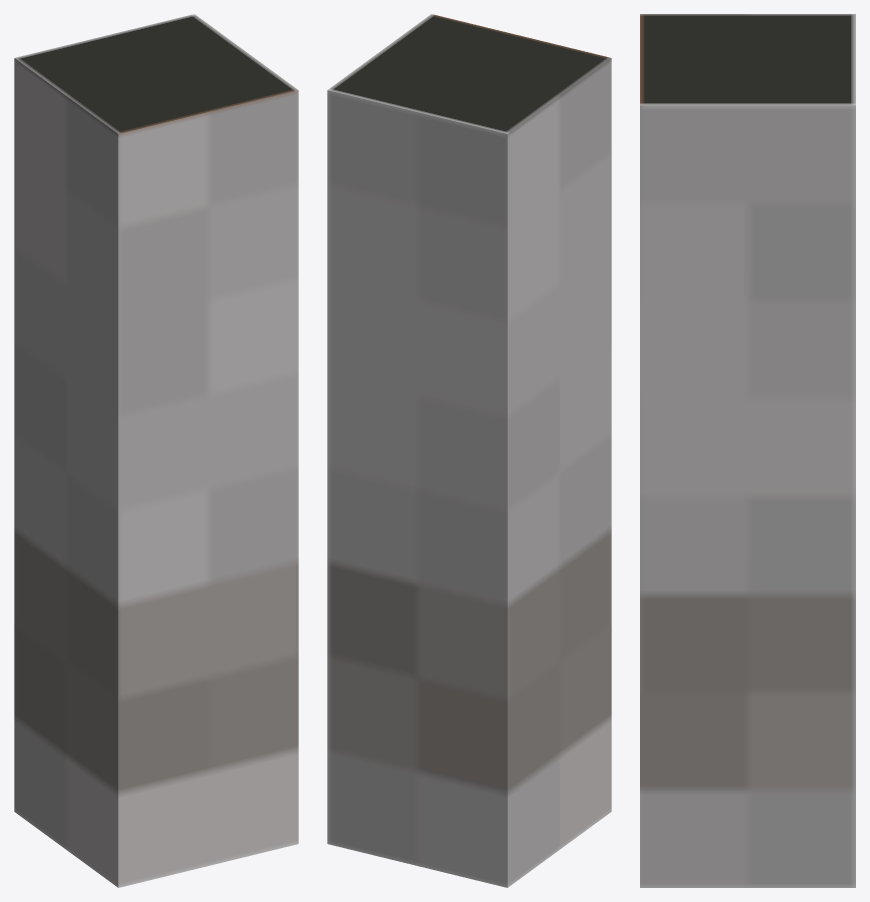
File: pbF_leftleg.obj
3 views of the same model, side by side, from view 1: azimuth 30°, elevation 25°; view 2: azimuth 150°, elevation 25°; view 3: azimuth 270°, elevation 25° (orthographic). The views are drawn at different scales.
Parts seen in each view (by area): view 1: Lobo.003; view 2: Lobo.003; view 3: Lobo.003.
Part boxes in pixels (x1,y1,x2,y2): Lobo.003: (14,14,298,887); Lobo.003: (327,14,611,887); Lobo.003: (640,14,855,887).
Bounding box in the file's own units: 1.25 × 5 × 1.25.
Materials: 1 (1 with a texture image).
